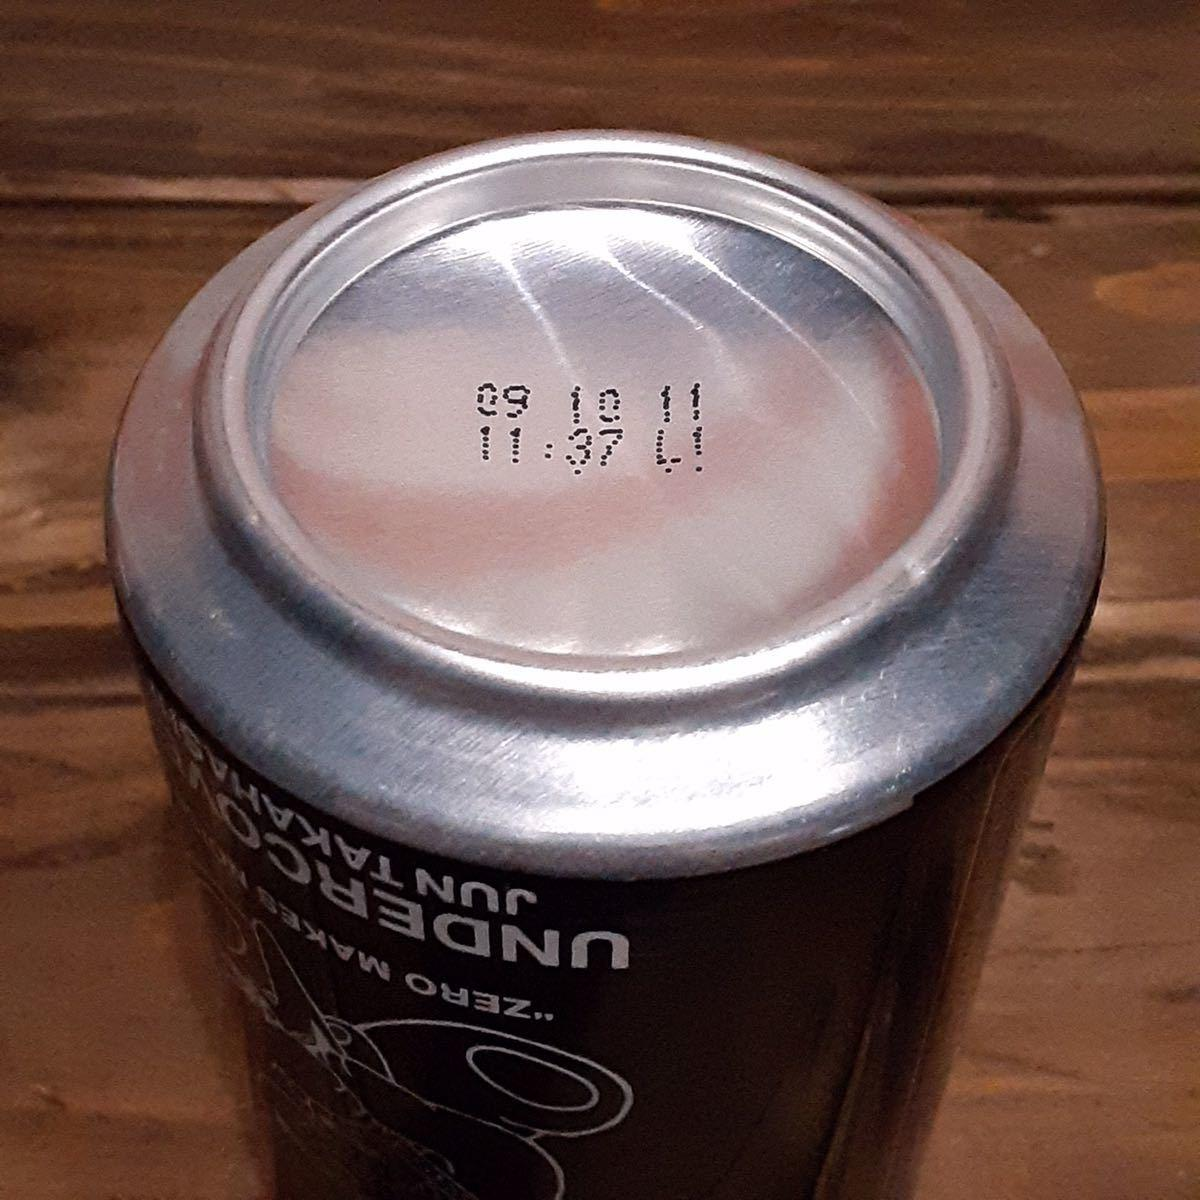metal: (85, 122, 1120, 1200)
